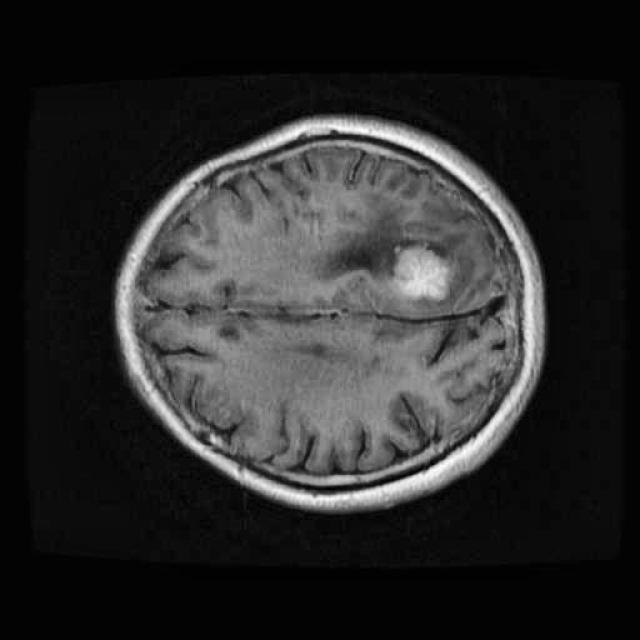Tumor: (378, 234, 464, 314)
